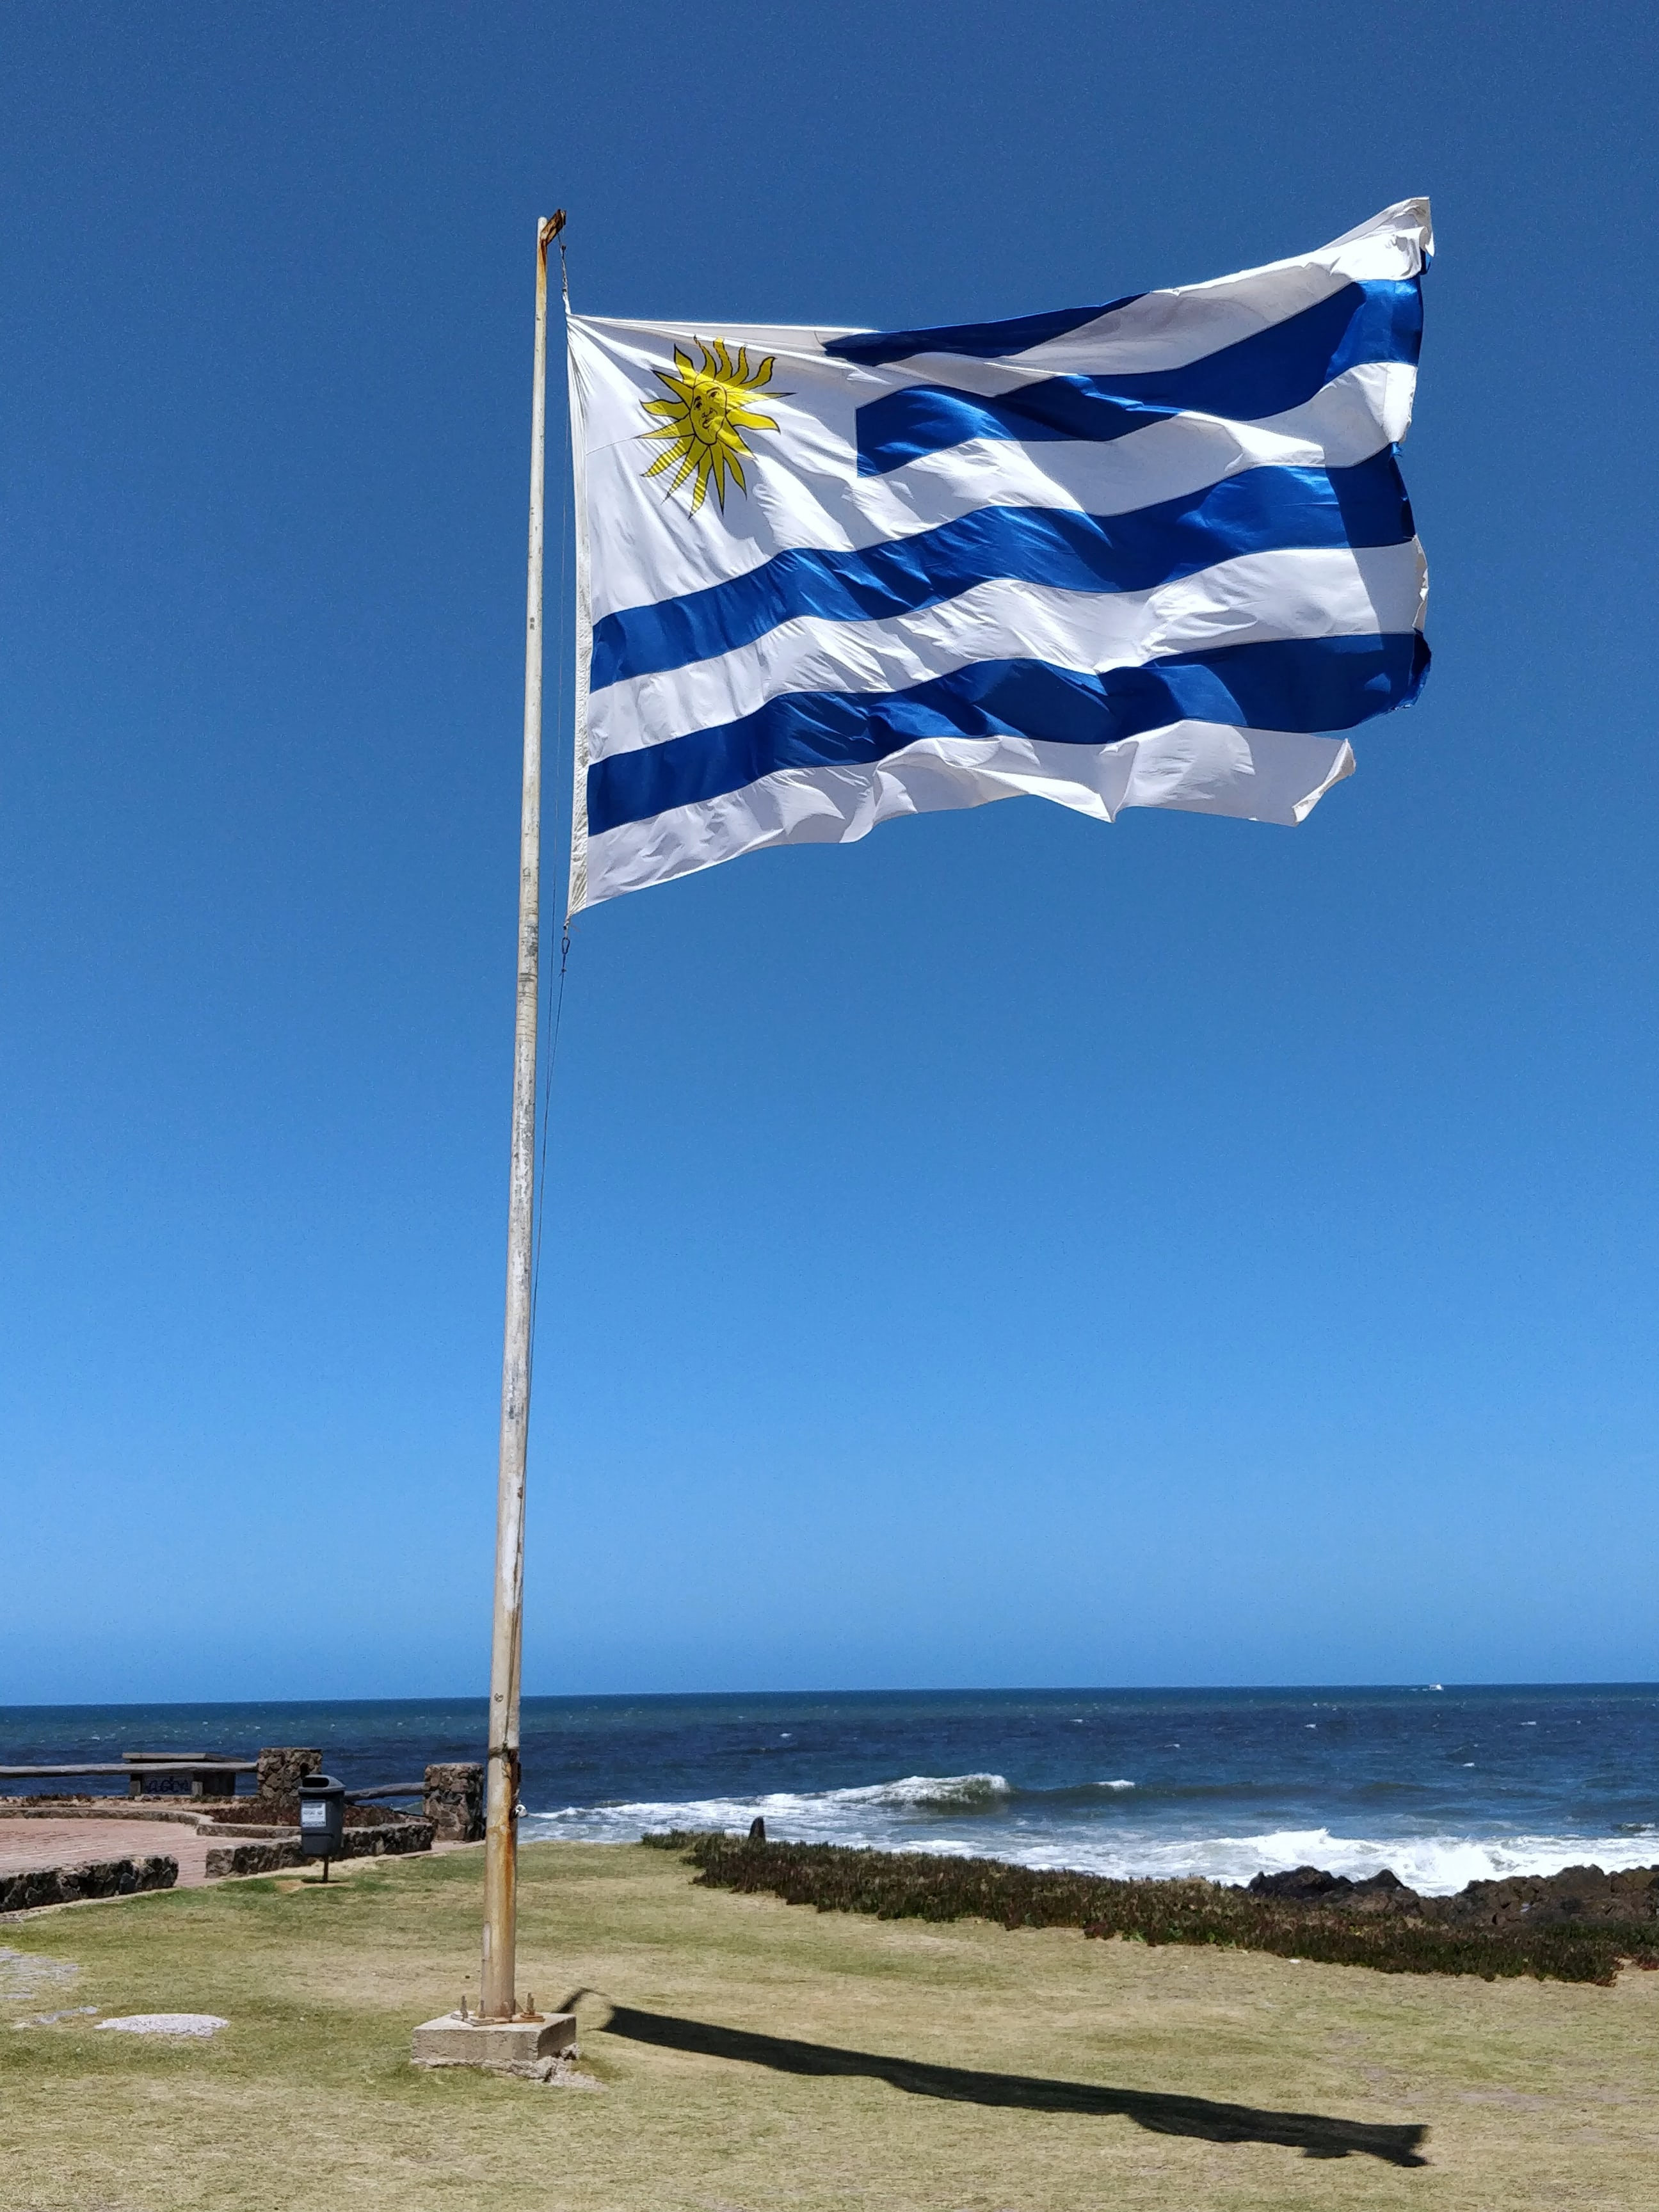Flag: (554, 202, 1427, 887)
